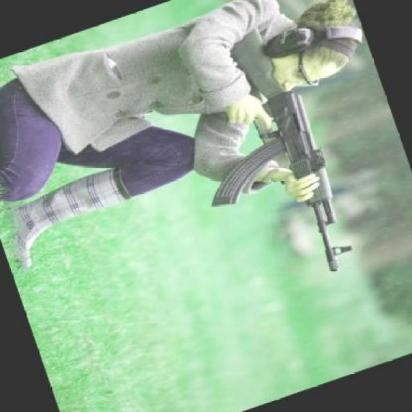Gun: (208, 27, 355, 286)
